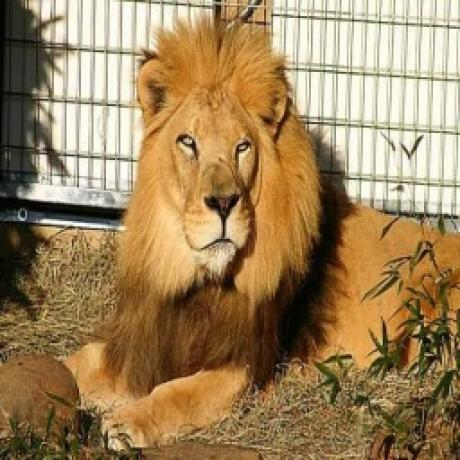Lion: (61, 10, 460, 452)
